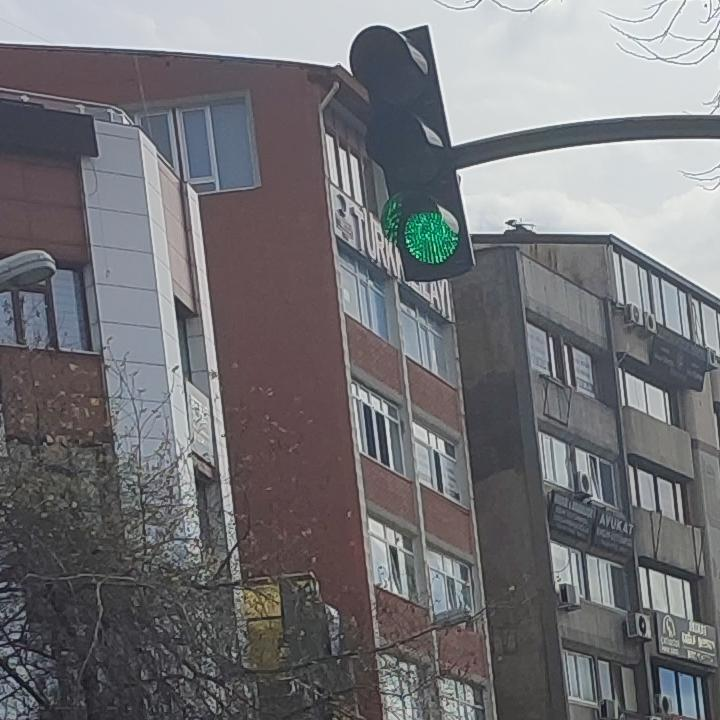green: (339, 14, 468, 272)
